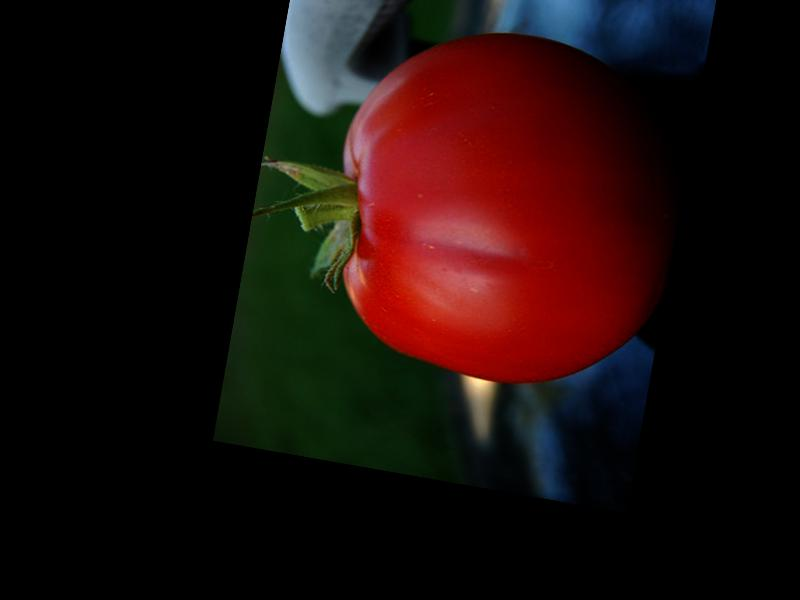Tomato: (308, 6, 705, 408)
